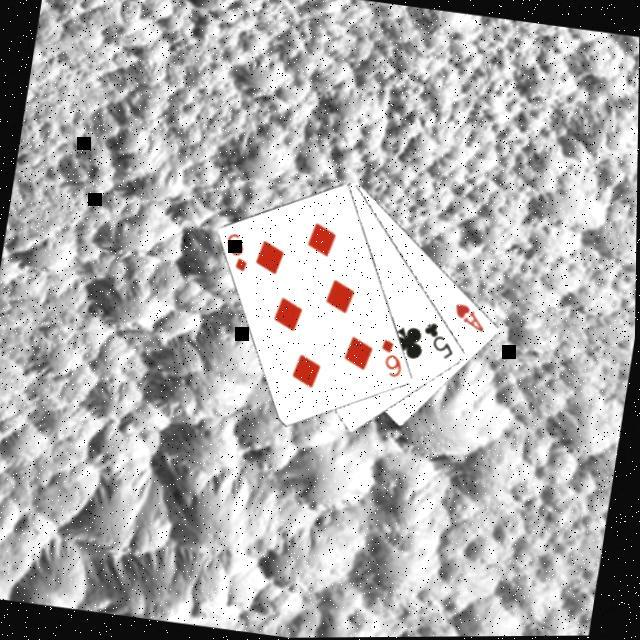5C: (418, 317, 462, 363)
6D: (218, 228, 256, 275), (374, 334, 409, 381)
AH: (449, 298, 492, 336)
